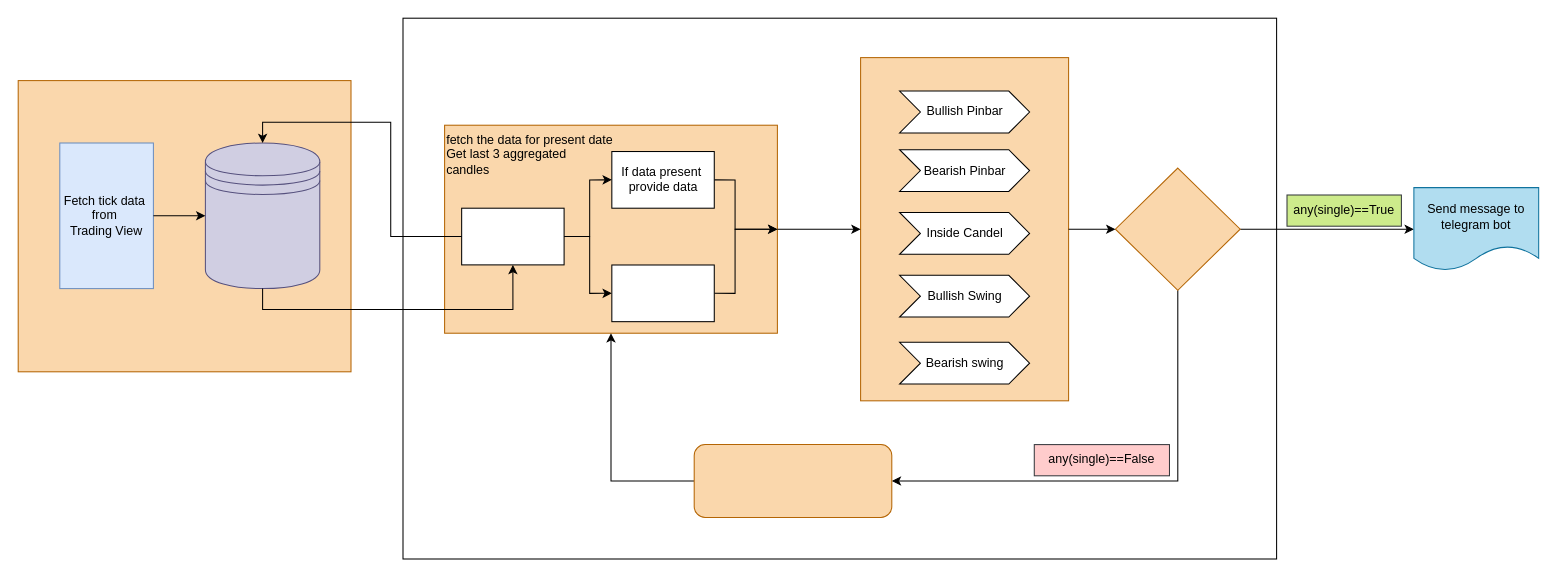
The diagram is 1557 pixels wide and 577 high, and some of its shapes have lost their labels. Here are the shapes that lost their labels. From the top down, the box of each, then its label:
(204, 142, 320, 289): MYSQL DB
(860, 57, 1069, 401): Check Paters
(1114, 167, 1240, 290): If any single?
(461, 207, 564, 265): connect to db
(611, 264, 714, 322): if not provide null
(693, 444, 892, 517): wait for next pattern to form
